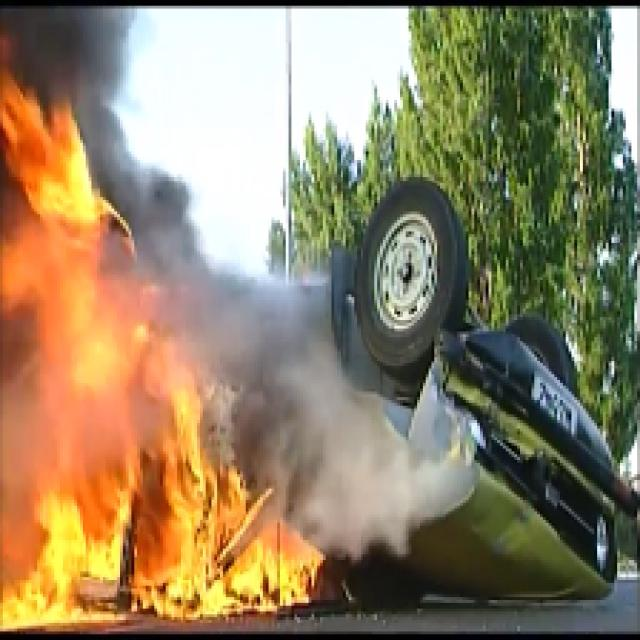fire: (4, 123, 118, 614), (125, 470, 268, 582)
smoke: (301, 414, 422, 536), (195, 276, 328, 382)
